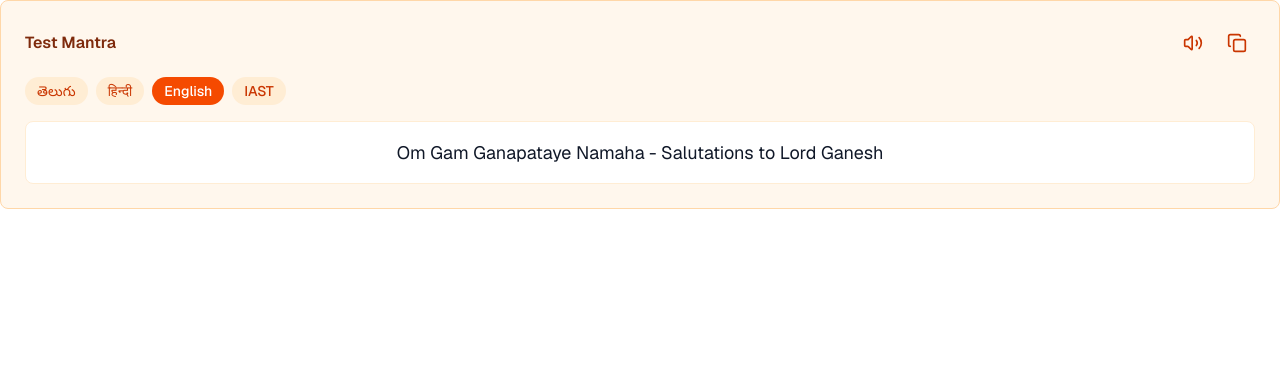
it: MantraDisplay › shows English meaning for non-English scripts
Click the button "हिन्दी": x=120, y=91 left=96, top=77, right=144, bottom=105
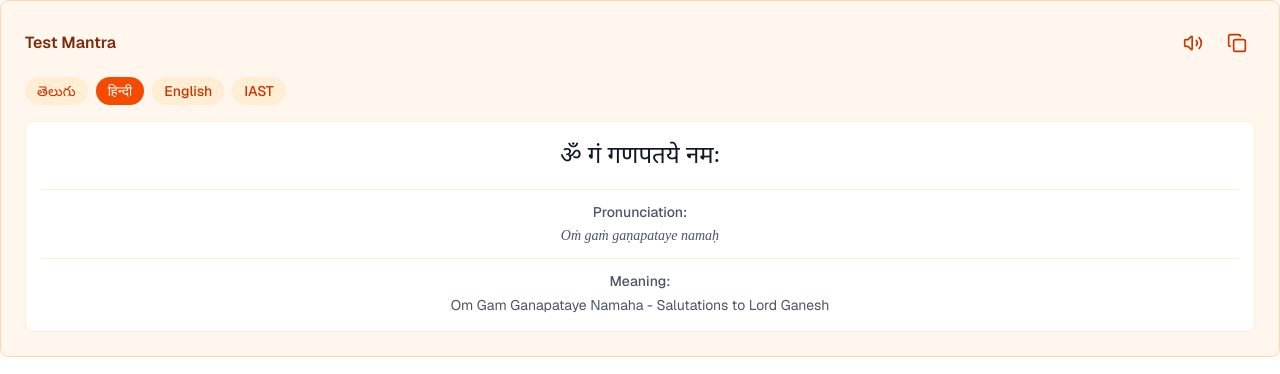
Expected: the text "Om Gam Ganapataye Namaha - Salutations to Lord Ganesh" is shown, left=451, top=296, right=829, bottom=314
Expected: the text "Meaning:" is shown, left=610, top=272, right=670, bottom=290
